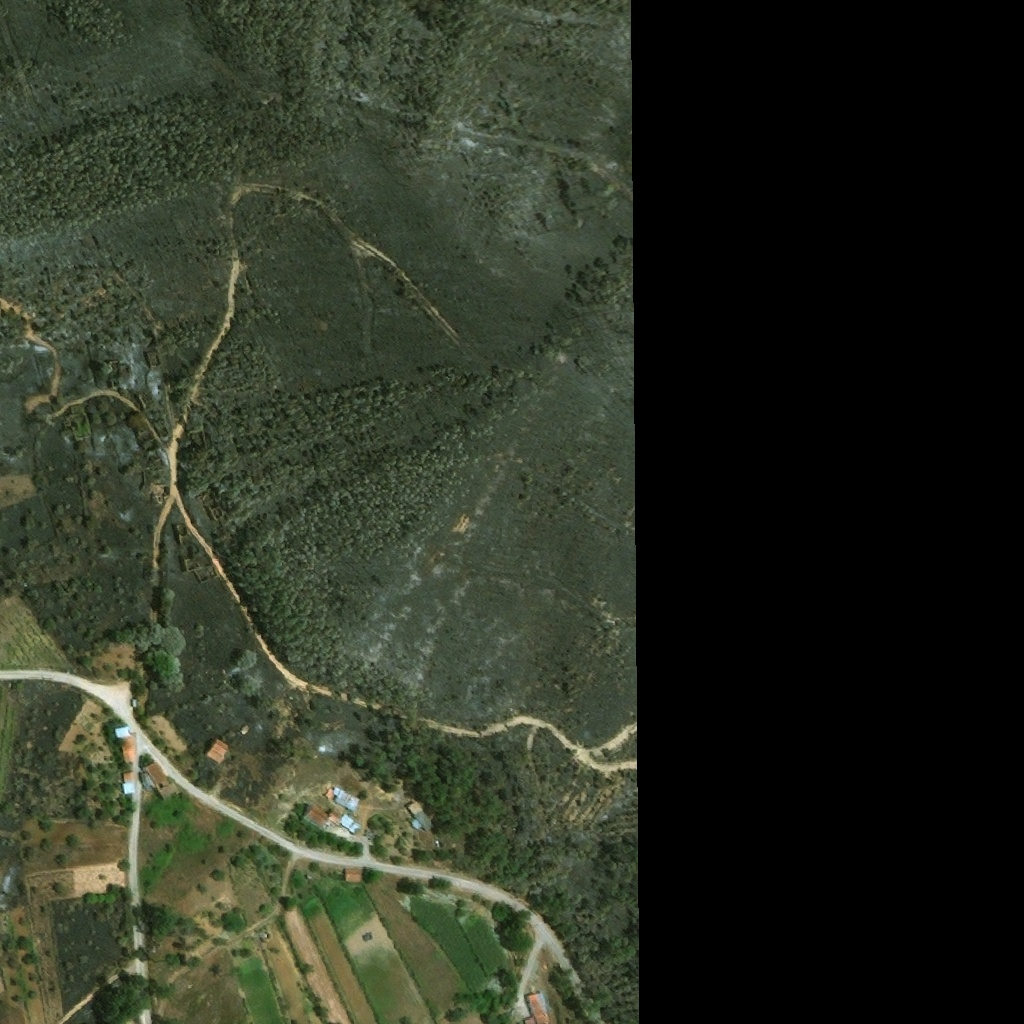0 no-damage: (142, 759, 179, 800), (524, 992, 556, 1023), (407, 799, 438, 831), (331, 810, 363, 835), (304, 803, 331, 829), (206, 738, 232, 764), (334, 786, 362, 810), (123, 733, 138, 762), (123, 771, 138, 795), (347, 867, 363, 884), (115, 726, 132, 737)
